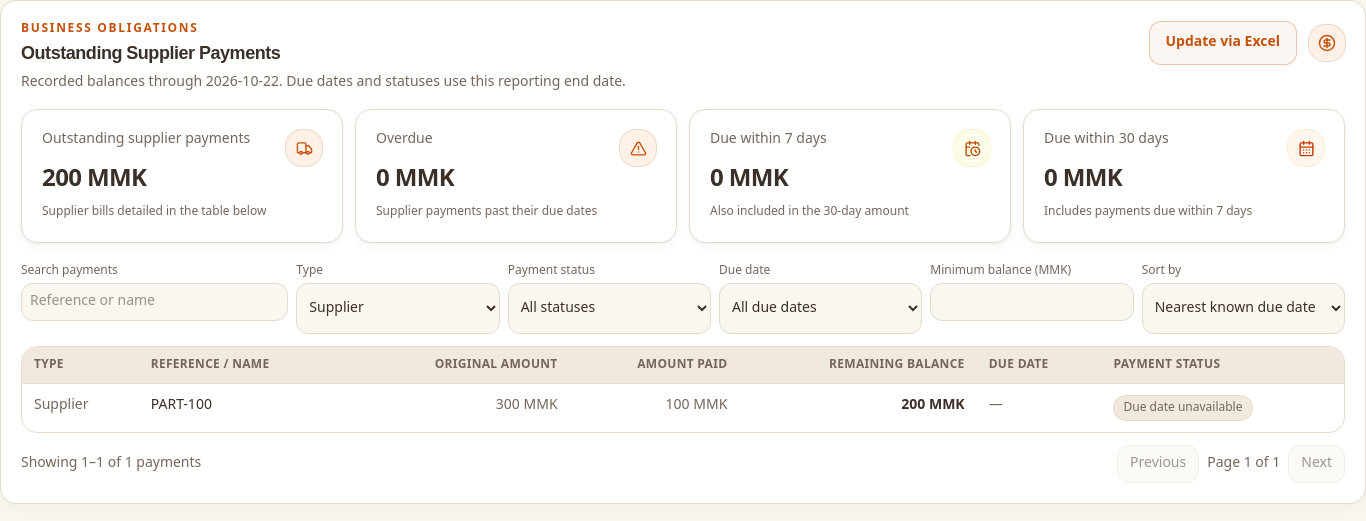
Test: OutstandingBalances › keeps an undated 100 MMK payment distinct from overdue and shows exact paid and remaining amounts
Check: the text "PART-100" is shown, box x1=151 y1=390 x2=212 y2=421
Check: the cell "300 MMK" is shown, box x1=351 y1=384 x2=570 y2=432
Select "Overdue" in the dropdown named "Filter by status": [609, 308] box x1=508 y1=283 x2=711 y2=334
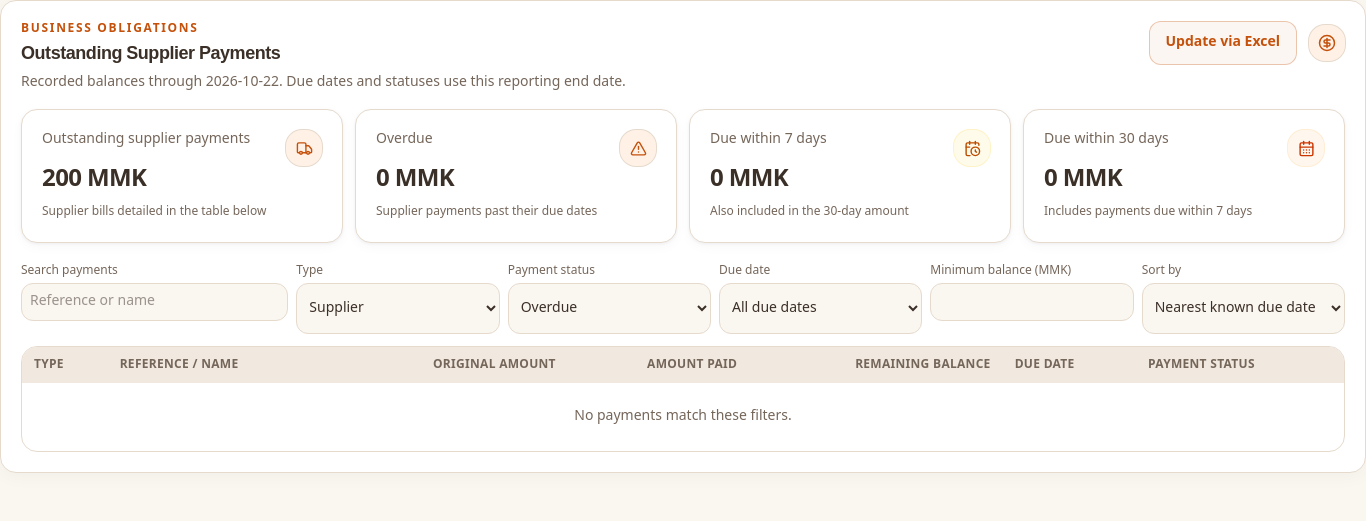
Check: the text "PART-100" is gone
